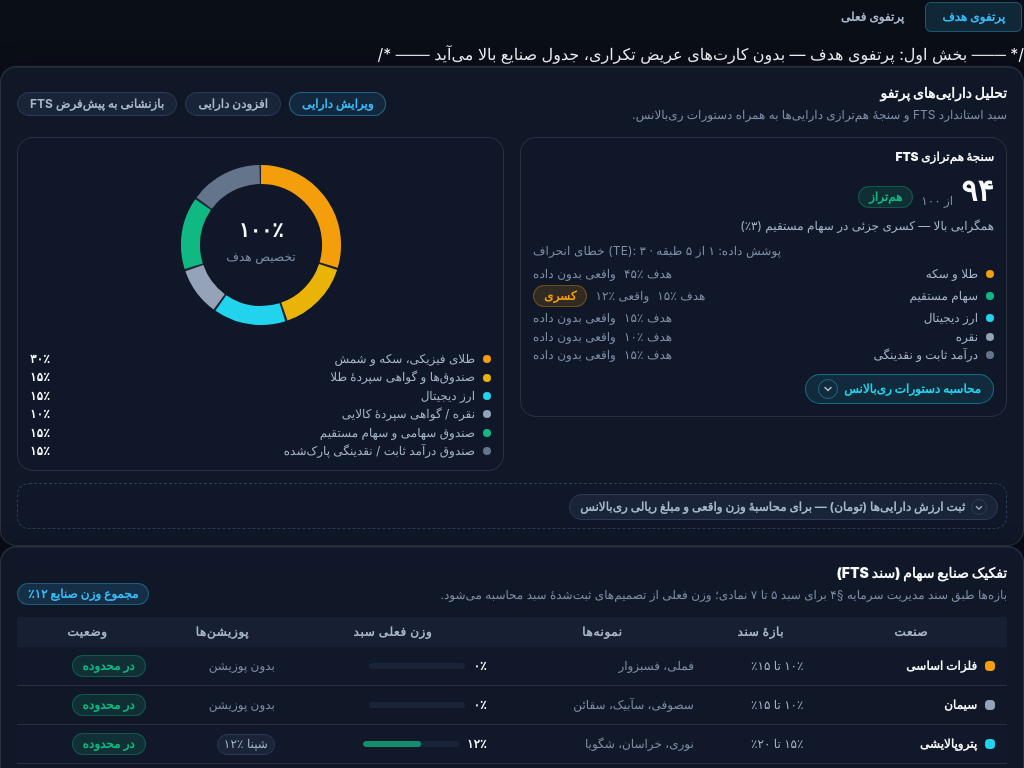
پرتفوی فعلی — جدول سه‌گانه › برچسب بدون داده برای غیب حد ضرر چارت (شاملا بدون fib ⇒ پله‌ها بدون داده)
Expected: the button "ویرایش دارایی" is shown, [289, 92, 386, 116]
Click the tab "پرتفوی فعلی" at (872, 17), box [824, 2, 921, 32]
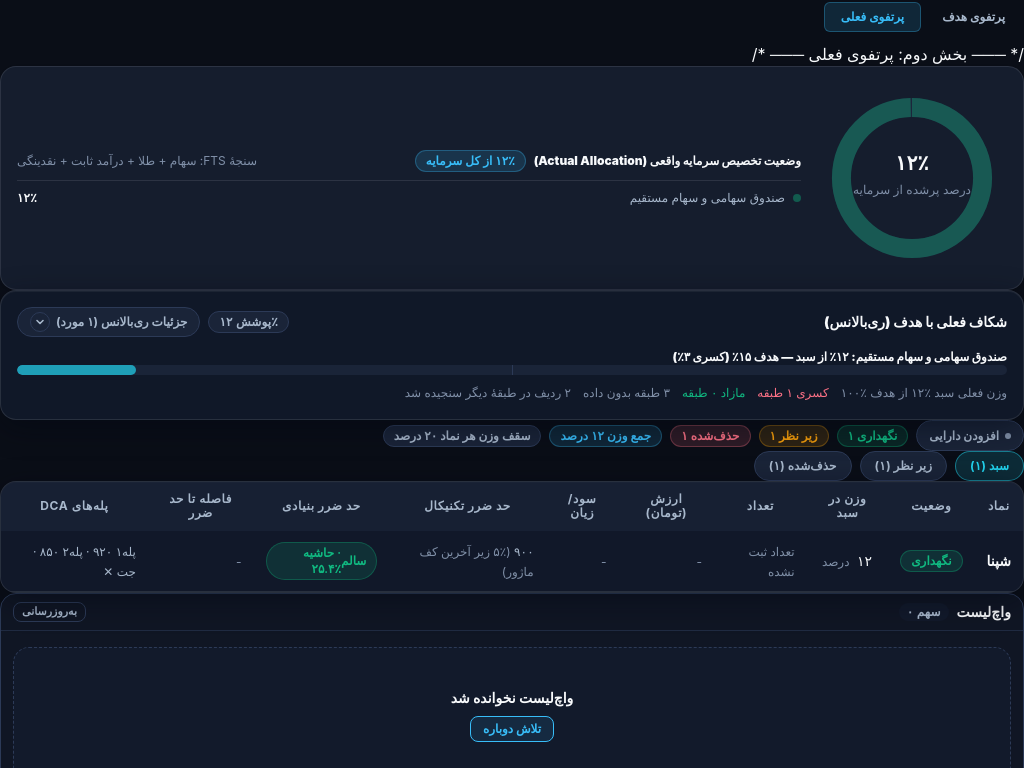
Expected: the heading "شکاف فعلی با هدف (ری‌بالانس)" is shown, [824, 312, 1007, 332]
Click the button "زیر نظر (۱)" at (903, 466), box [860, 451, 947, 481]
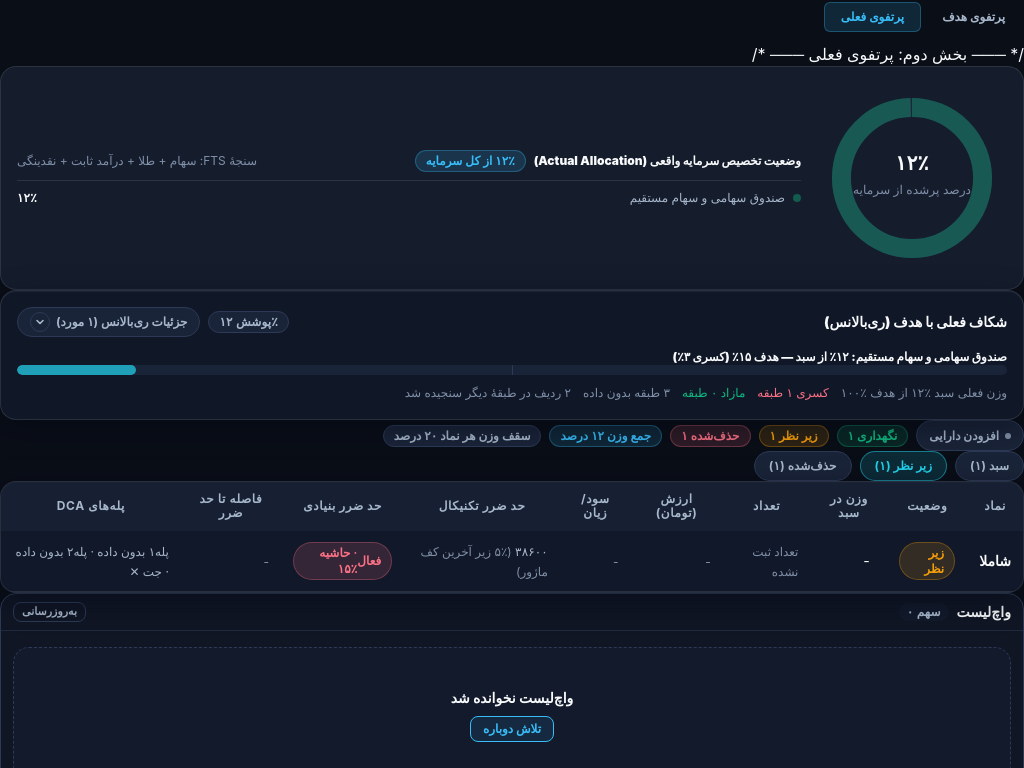
Expected: the text "۳ طبقه بدون داده" is shown, [583, 383, 670, 403]
Expected: the text "شاملا" is shown, [967, 531, 1023, 591]
Expected: the text "۳۸۶۰۰" is shown, [515, 544, 548, 560]
